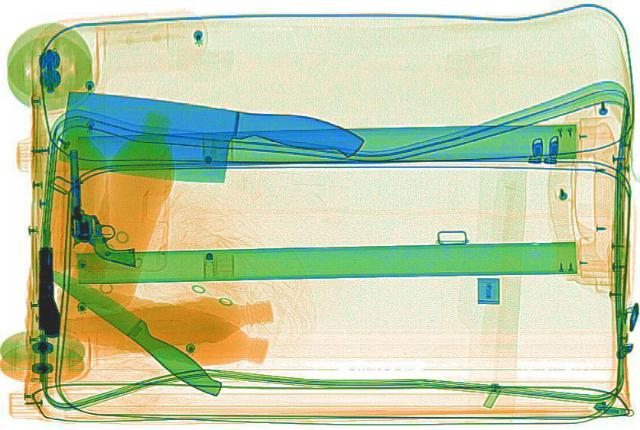Gun: (45, 146, 162, 264), (29, 246, 63, 337)
Knife: (34, 83, 368, 202), (31, 254, 238, 403)
